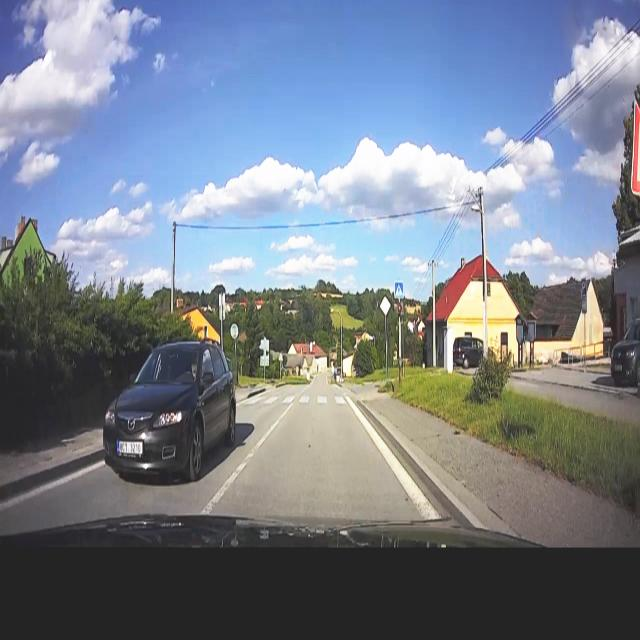Priority road: (378, 295, 393, 319)
